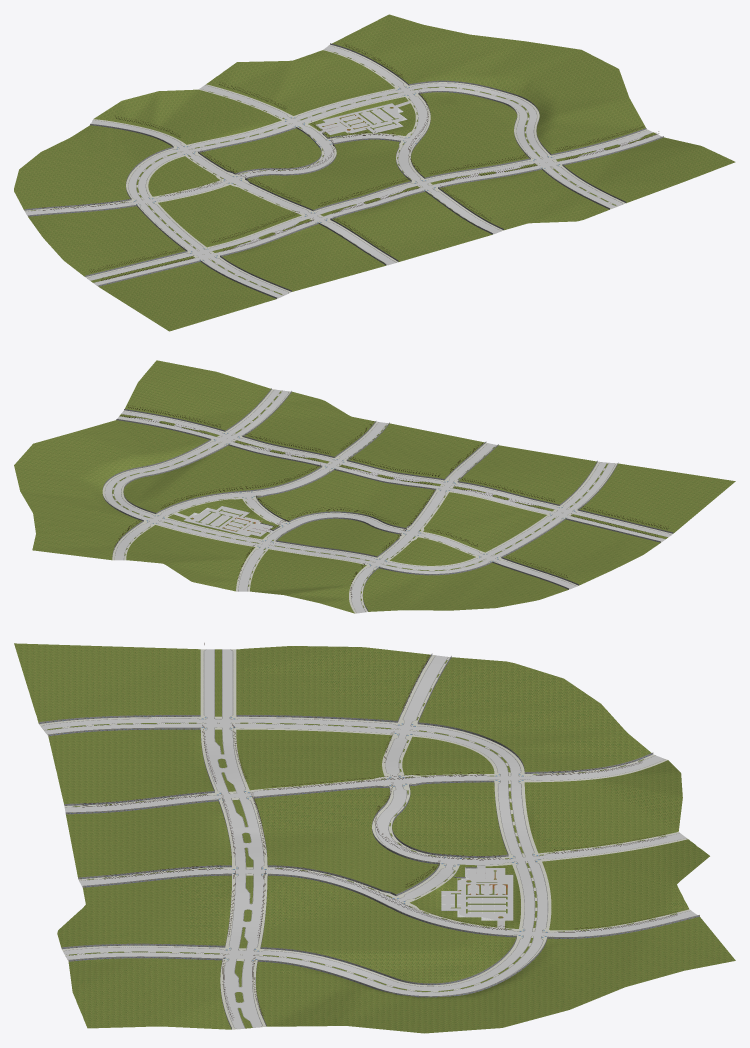
Rendered from Ruas002.FBX.
The picture shows the model from 3 angles, top to bottom: view 1: azimuth 30°, elevation 25°; view 2: azimuth 150°, elevation 25°; view 3: azimuth 270°, elevation 25°; orthographic projection. The views are drawn at different scales.
Parts seen in each view (by area): view 1: Terreno09, Terreno10, Terreno06, Terreno08, Terreno05, Terreno01, Terreno02, Terreno04, Terreno03, Estacionamento, Fios1, Cercado06 (+30 smaller); view 2: Terreno09, Terreno10, Terreno06, Terreno08, Terreno05, Terreno01, Terreno02, Terreno04, Terreno03, Estacionamento, Fios1, Ruas022 (+32 smaller); view 3: Terreno10, Terreno09, Terreno06, Terreno08, Terreno05, Terreno01, Terreno02, Terreno04, Estacionamento, Terreno03, Ruas011, Cercado06 (+34 smaller).
Boxes of the visible parts, x1,y1,x2,y2 form: Terreno09: [332, 14, 735, 202]; Terreno10: [14, 125, 276, 331]; Terreno06: [222, 169, 609, 291]; Terreno08: [94, 50, 394, 144]; Terreno05: [411, 92, 529, 177]; Terreno01: [247, 139, 410, 209]; Terreno02: [158, 185, 301, 247]; Terreno04: [200, 128, 321, 173]; Terreno03: [148, 156, 219, 196]; Estacionamento: [315, 101, 410, 134]; Fios1: [42, 45, 658, 280]; Cercado06: [220, 168, 609, 291]; Terreno09: [14, 360, 270, 560]; Terreno10: [363, 463, 735, 611]; Terreno06: [244, 391, 596, 504]; Terreno08: [126, 525, 366, 613]; Terreno05: [123, 445, 320, 512]; Terreno01: [257, 470, 434, 527]; Terreno02: [423, 492, 546, 552]; Terreno04: [277, 518, 399, 556]; Terreno03: [390, 537, 475, 565]; Estacionamento: [174, 506, 272, 536]; Fios1: [114, 405, 667, 596]; Ruas022: [450, 482, 559, 514]; Terreno10: [14, 643, 651, 771]; Terreno09: [68, 916, 735, 1033]; Terreno06: [48, 729, 231, 947]; Terreno08: [524, 760, 709, 930]; Terreno05: [261, 875, 516, 983]; Terreno01: [254, 787, 438, 894]; Terreno02: [236, 729, 392, 790]; Terreno04: [392, 782, 507, 855]; Estacionamento: [441, 866, 513, 927]; Terreno03: [402, 736, 494, 775]; Ruas011: [225, 875, 267, 948]; Cercado06: [48, 727, 231, 949].
Bounding box in the file's own units: 944 × 25.47 × 723.
